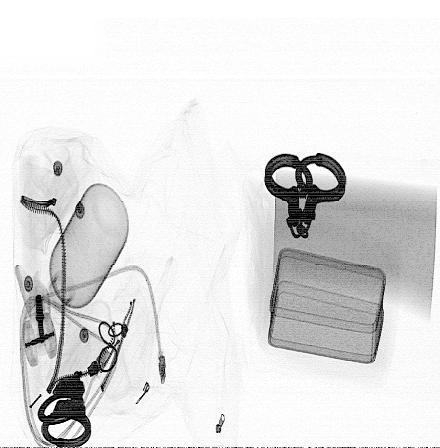HandCuffs: (265, 150, 347, 240), (35, 373, 95, 447)
